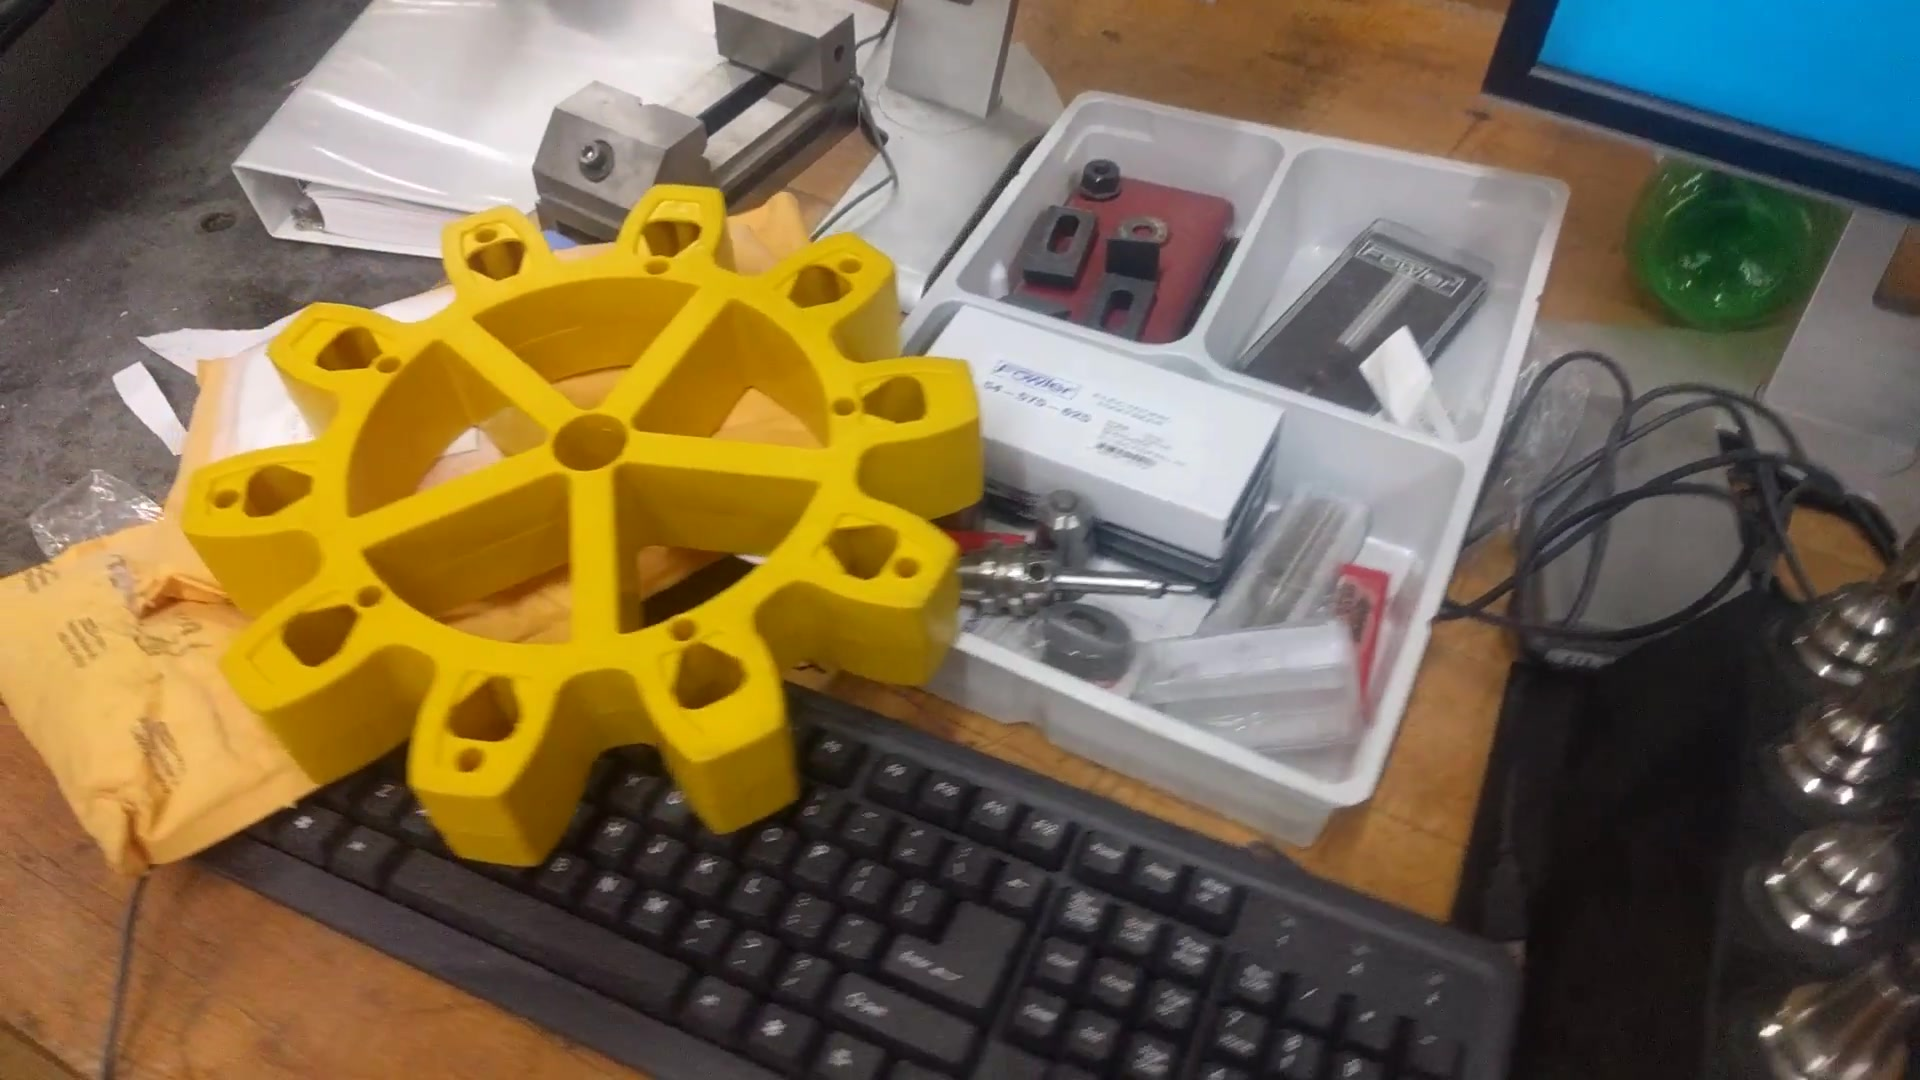gear: (219, 182, 972, 893)
